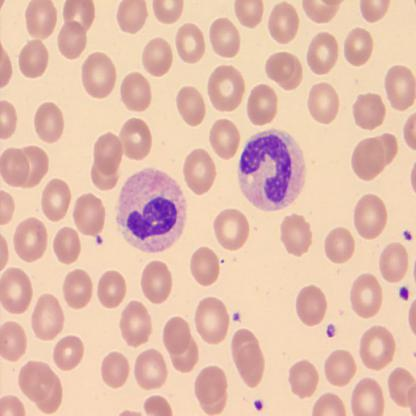Band Neutrophil: (115, 165, 189, 255), (235, 126, 308, 214)
